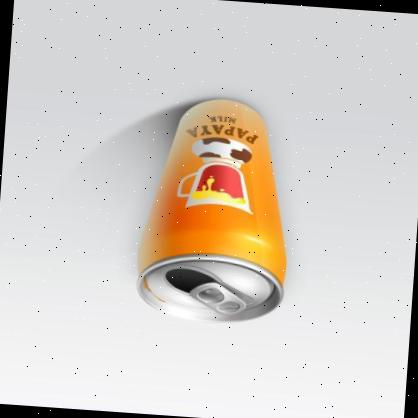can: (131, 93, 300, 334)
